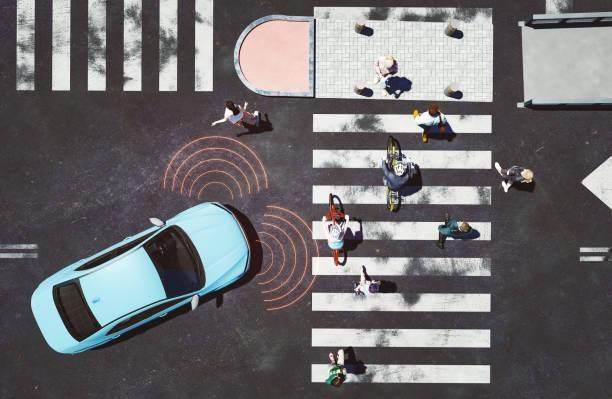Motorcycle: (322, 198, 349, 268), (384, 132, 404, 215)
